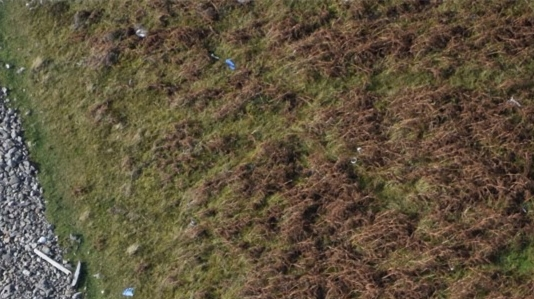straight_bar: (31, 244, 72, 274), (67, 256, 90, 290)
white_in_green: (208, 41, 253, 82)
